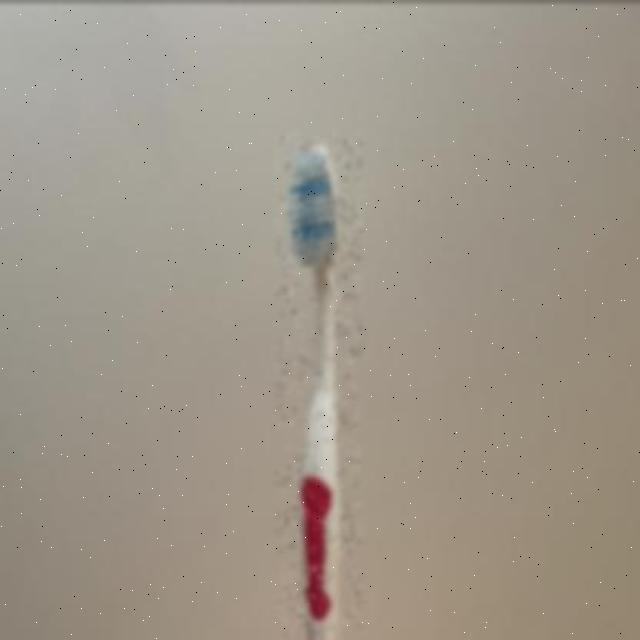toothbrush: (277, 126, 361, 640)
